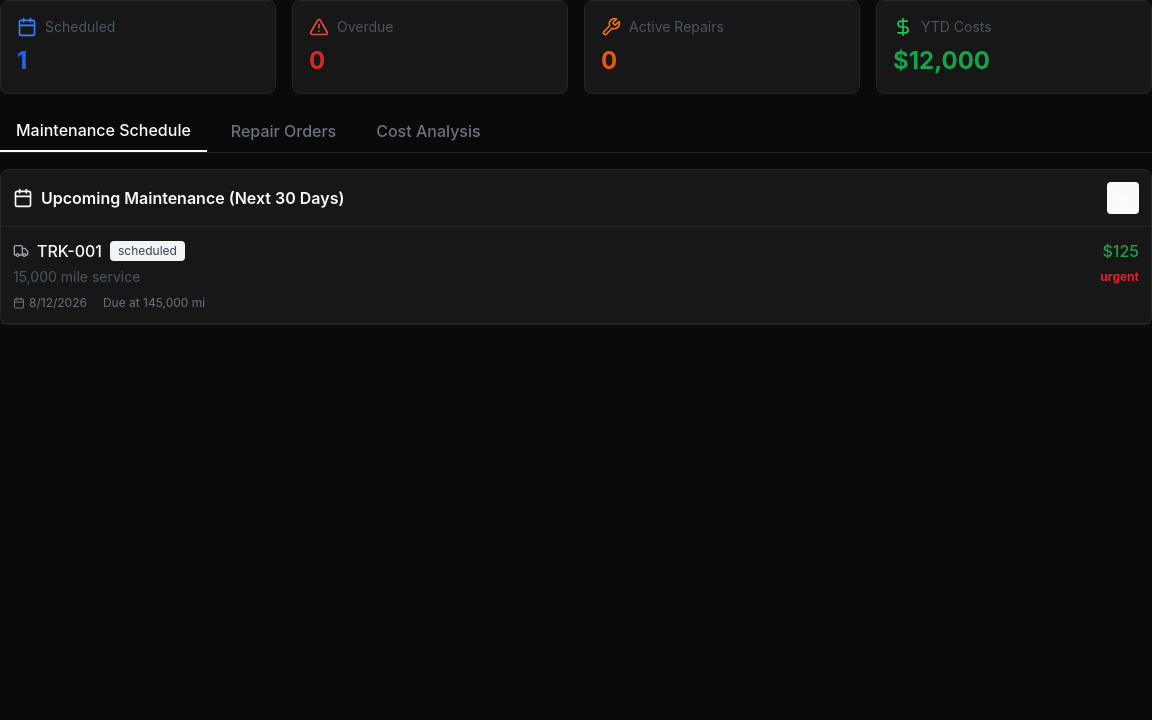
MaintenancePanel — the costs tab › labels the trend axis with month names, not the wire format
Expected: the text "15,000 mile service" is shown, [13, 268, 140, 285]
Click the button "Cost Analysis".
click(428, 131)  # box [360, 110, 497, 152]
(page scrolled)
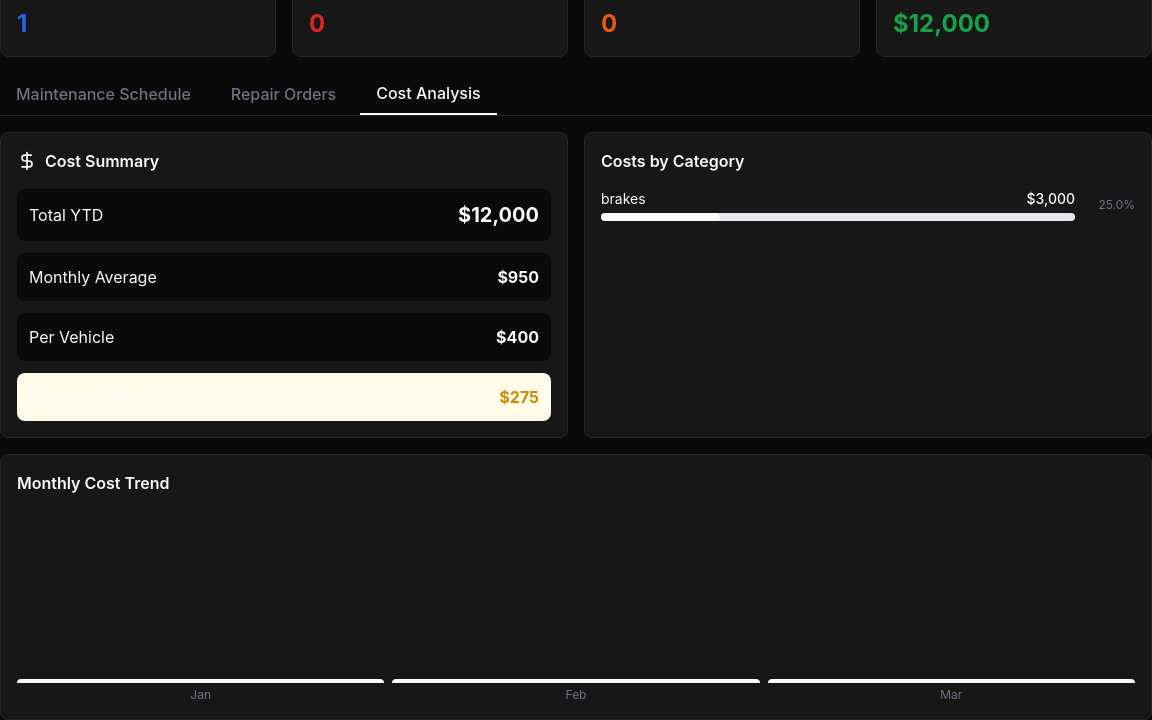
Expected: the heading "Monthly Cost Trend" is shown, [17, 473, 169, 493]
Expected: the text "Jan" is shown, [190, 687, 211, 703]
Expected: the text "Mar" is shown, [940, 687, 962, 703]
